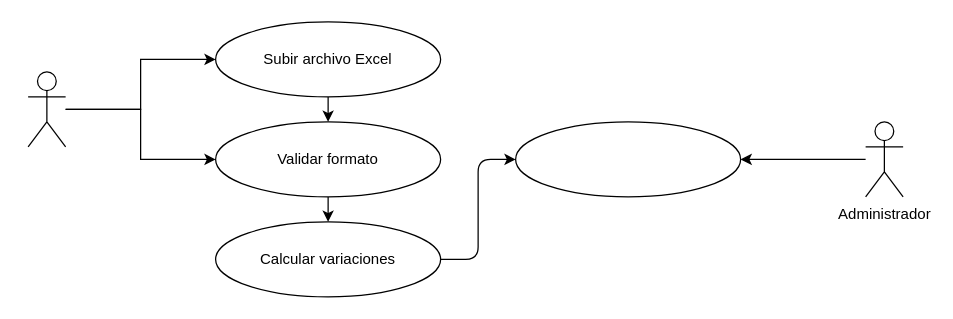
This 953x319 diagram has some shape labels left out. Here are the shapes that lost their labels. From the top down, the centre of each, then its label:
the point at 46,109: Usuario
the point at 627,159: Generar reporte
